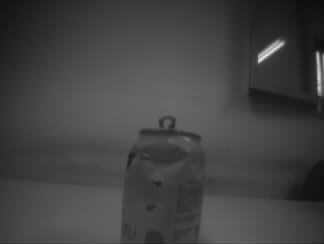Tin can: (119, 114, 207, 243)
